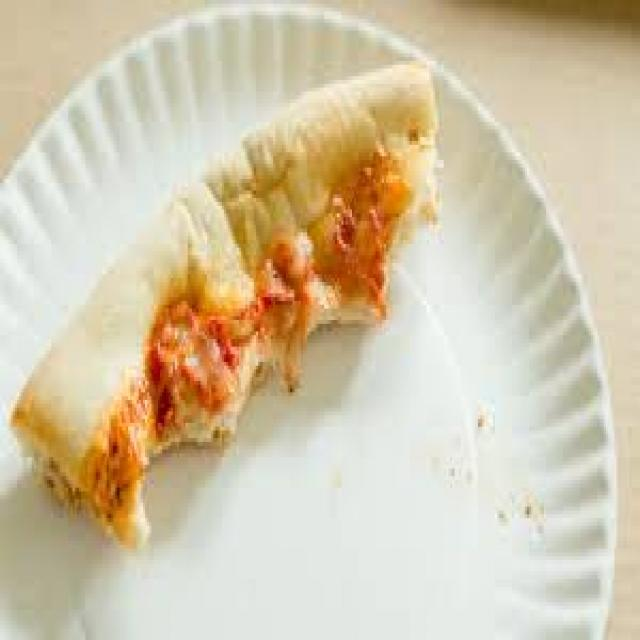organic waste: (9, 54, 435, 552)
